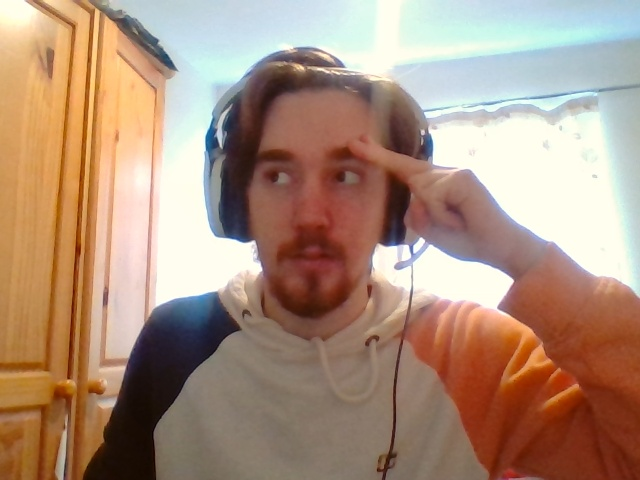name: (348, 134, 472, 243)
